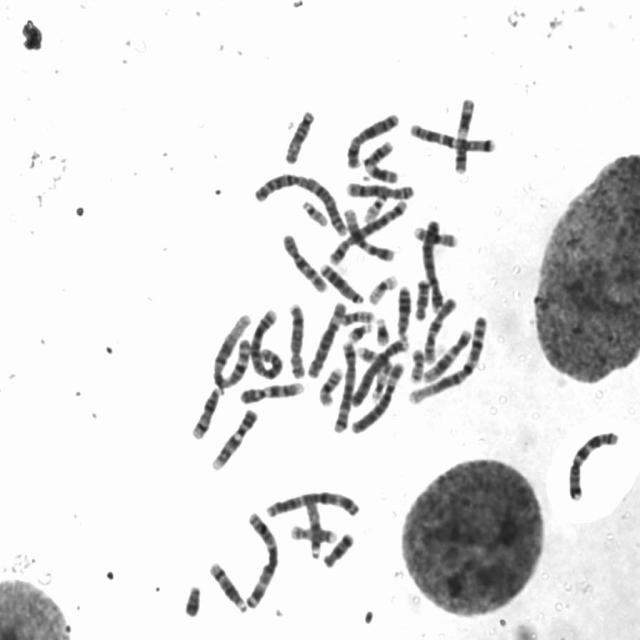A1: (403, 310, 491, 406), (207, 308, 254, 392)
A2: (248, 166, 350, 236), (244, 302, 285, 380)
A3: (239, 507, 281, 610), (262, 486, 362, 519)
B4: (346, 332, 411, 410), (416, 215, 446, 314)
B5: (325, 196, 409, 266), (328, 335, 358, 433)
C10: (278, 228, 328, 294), (418, 290, 458, 366)
C11: (449, 91, 477, 174), (359, 136, 400, 184)
C12: (417, 322, 477, 384), (339, 203, 396, 263)
C6: (346, 354, 406, 436), (303, 297, 348, 379)
C7: (563, 425, 622, 503), (404, 117, 498, 154)
C8: (283, 297, 307, 380), (341, 176, 416, 201)
C9: (207, 404, 259, 472), (235, 375, 306, 405)
D13: (315, 258, 365, 305), (392, 280, 413, 340)
D14: (204, 556, 248, 614), (186, 381, 223, 441)
D15: (280, 104, 316, 165), (300, 492, 324, 560)
E16: (409, 224, 463, 252), (314, 362, 344, 408)
E17: (353, 340, 393, 376), (285, 518, 339, 544)
E18: (318, 527, 356, 568), (410, 274, 431, 322)
F19: (364, 268, 400, 306), (367, 360, 392, 403)
F20: (337, 305, 376, 327), (406, 343, 426, 384)
G21: (344, 318, 374, 342), (371, 312, 391, 346)
G22: (297, 195, 329, 228), (358, 190, 388, 222)
X: (342, 107, 402, 170)
Y: (179, 580, 203, 618)
